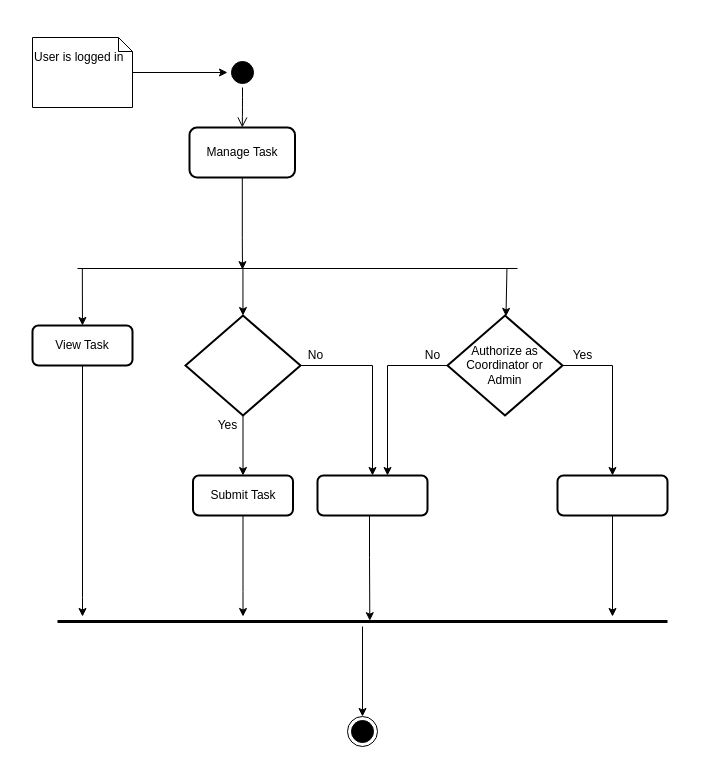
This 704x774 diagram has some shape labels left out. The centre of each missing label's shape, as x and y in pixels:
"Access Denied" belongs at point (372, 495).
"Assign Task" belongs at point (612, 495).
"Authorize as Coordinator or Faculty" belongs at point (242, 365).
